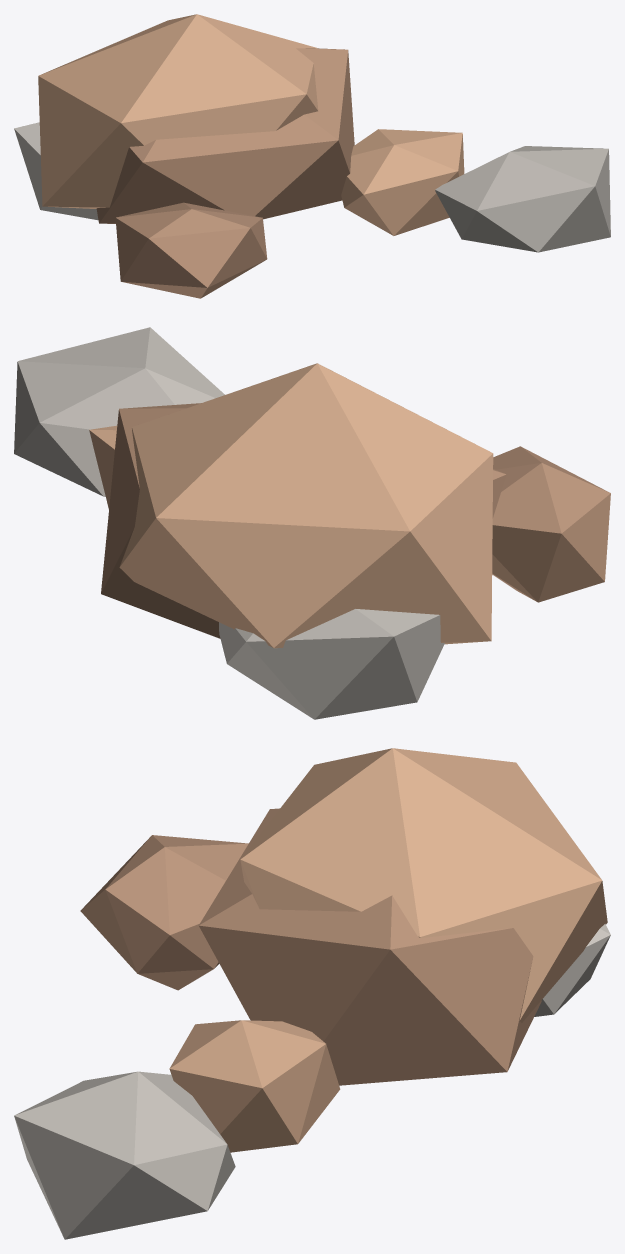
The model's file is SM_Rock_Group.glb.
The picture shows the model from 3 angles, top to bottom: view 1: azimuth 30°, elevation 25°; view 2: azimuth 150°, elevation 25°; view 3: azimuth 270°, elevation 25°; orthographic projection. The views are drawn at different scales.
Parts seen in each view (by area): view 1: SM_Rock_Group; view 2: SM_Rock_Group; view 3: SM_Rock_Group.
Part boxes in pixels (<box>): SM_Rock_Group: <box>14,14,610,298</box>; SM_Rock_Group: <box>14,327,610,719</box>; SM_Rock_Group: <box>14,748,610,1239</box>.
Size of the model in its own units: 1.35 by 0.5819 by 1.08.
